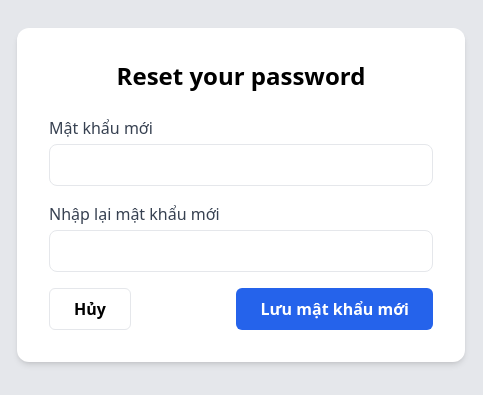
Test: ResetPasswordPage › shows error when confirm password does not match
Type "Password123!" into the password field labelled "Mật khẩu mới".
click(241, 165); type("Password123!")  # box [49,144,433,186]
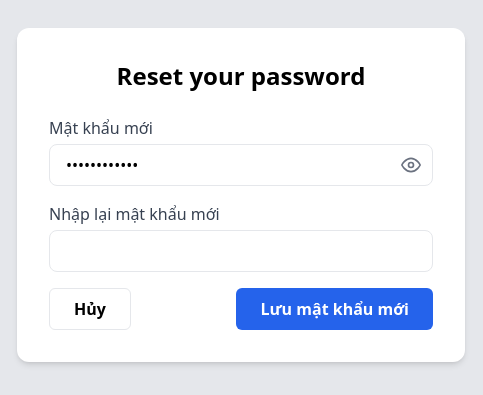
Type "Wrong123!" into the password field labelled "Nhập lại mật khẩu mới".
click(241, 251); type("Wrong123!")  # box [49,230,433,272]
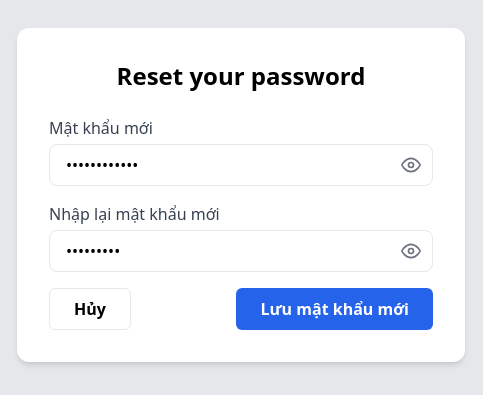
Click the button "Lưu mật khẩu mới".
click(335, 309)  # box [236,288,433,330]
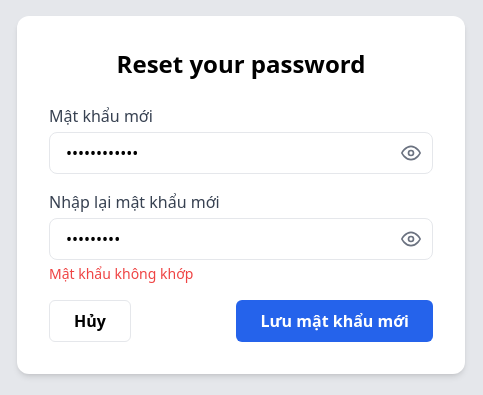
expect the text "Mật khẩu không khớp" is shown: met, box [49,264,193,283]
